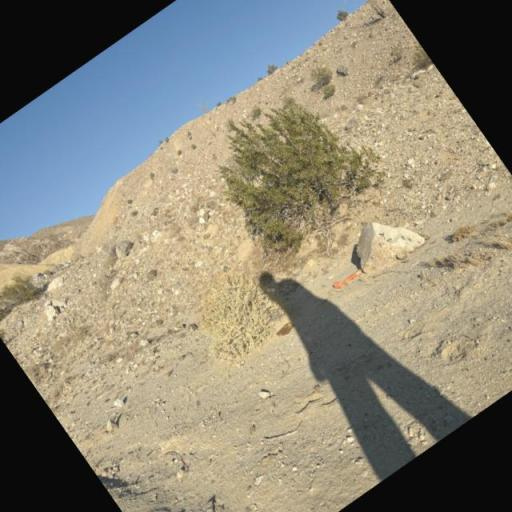mallet: (323, 254, 372, 299)
